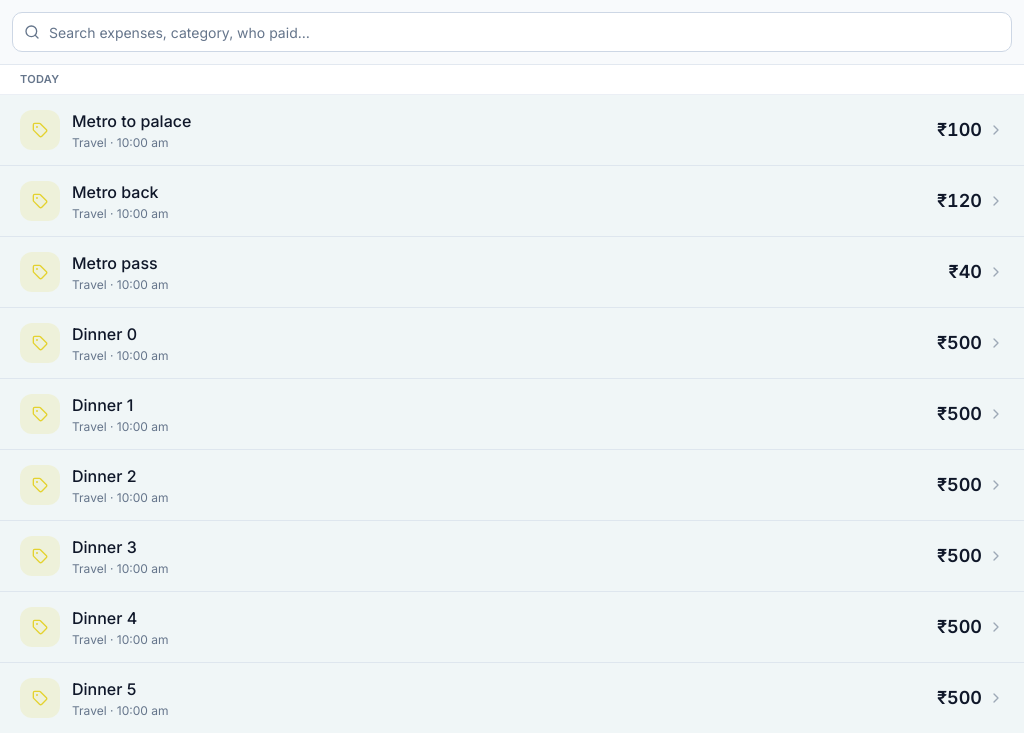
TransactionList search summary › adds up a payer across several matching expenses
The width and height of the screenshot is (1024, 733).
Step 1. Type "metro" into the field with placeholder "Search expenses, category, who paid…" → (512, 32), box [12, 12, 1012, 52]
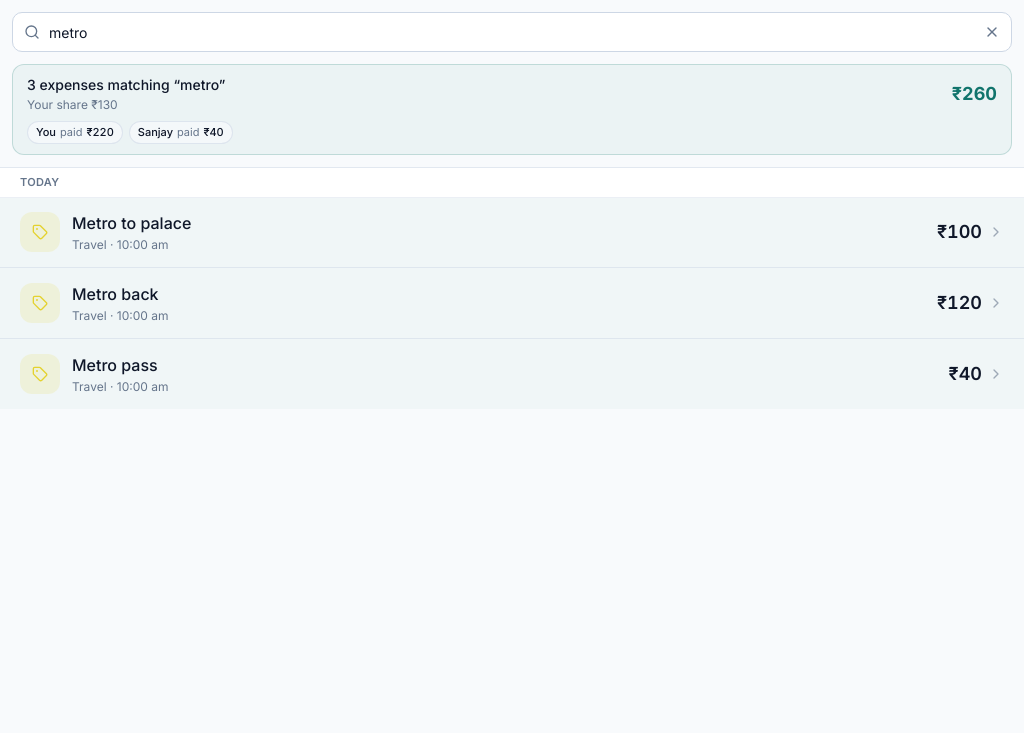
Expected: the elements "paid" read "Youpaid₹220", "Sanjaypaid₹40", in this order, [27, 121, 123, 144]; [129, 121, 233, 144]
